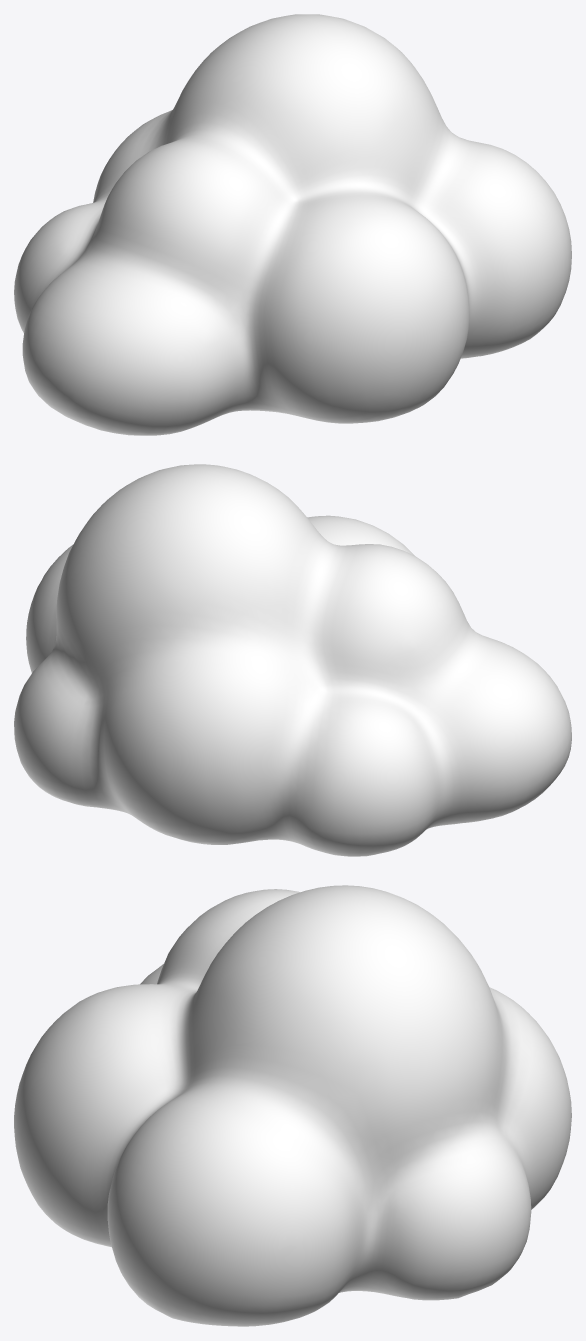
The model's file is nuage.glb.
3 views of the same model, one above another, from view 1: azimuth 30°, elevation 25°; view 2: azimuth 150°, elevation 25°; view 3: azimuth 270°, elevation 25° (orthographic). The views are drawn at different scales.
Visible parts, largest first — view 1: node_id96; view 2: node_id96; view 3: node_id96.
Part boxes in pixels (bbox=[...]): node_id96: bbox=[14, 14, 571, 435]; node_id96: bbox=[14, 464, 571, 856]; node_id96: bbox=[14, 885, 571, 1326].
Bounding box in the file's own units: 0.2919 × 0.1614 × 0.2369.
1 material, 1 textured.
